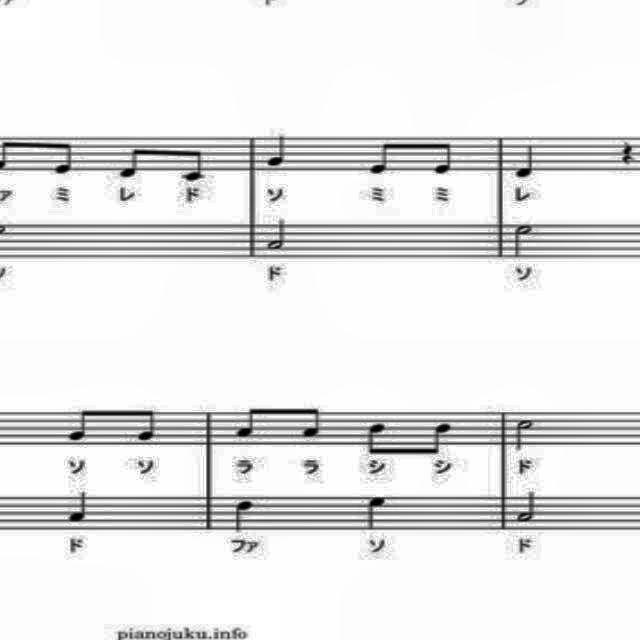Eighth-note: (113, 140, 153, 180), (128, 402, 164, 446), (176, 143, 212, 184), (366, 132, 398, 176), (422, 418, 454, 458), (51, 132, 78, 178), (234, 402, 262, 446), (300, 402, 328, 446), (64, 404, 92, 444), (428, 140, 458, 177), (366, 418, 389, 458)
Half-note: (509, 414, 538, 454), (508, 221, 536, 261), (262, 214, 290, 253), (515, 488, 541, 524)
Quarter-note: (366, 492, 394, 532), (62, 487, 90, 525), (264, 130, 290, 170), (513, 140, 537, 180), (234, 496, 258, 534)
Quarter-rest: (617, 137, 635, 171)
